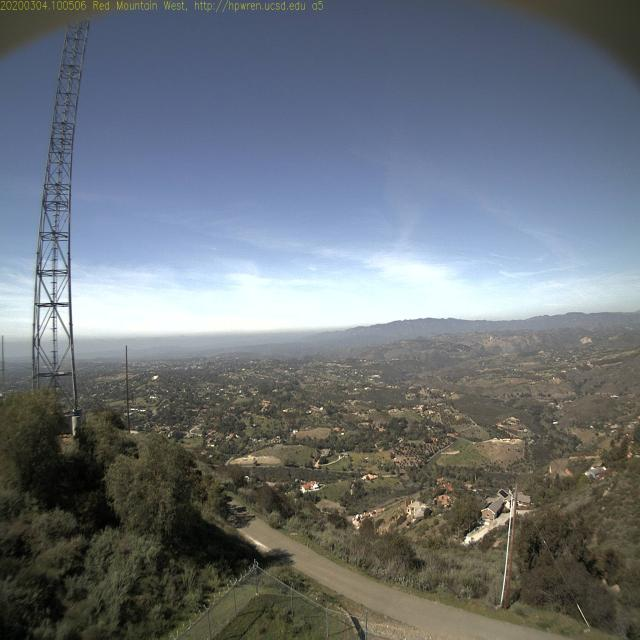smoke: (498, 339, 510, 358)
